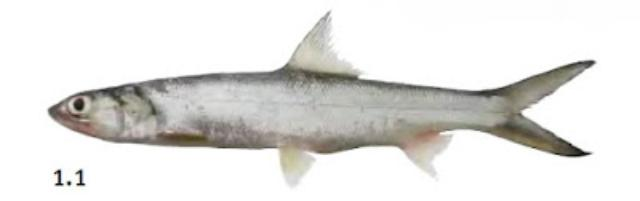Mulut: (41, 97, 77, 137)
Sirip Anal: (400, 127, 454, 184)
Sirip Dada: (156, 124, 212, 154)
Sirip Ekor: (498, 55, 598, 162)
Sirip Perut: (276, 134, 322, 192)
Sirip Punggung: (281, 4, 367, 82)
